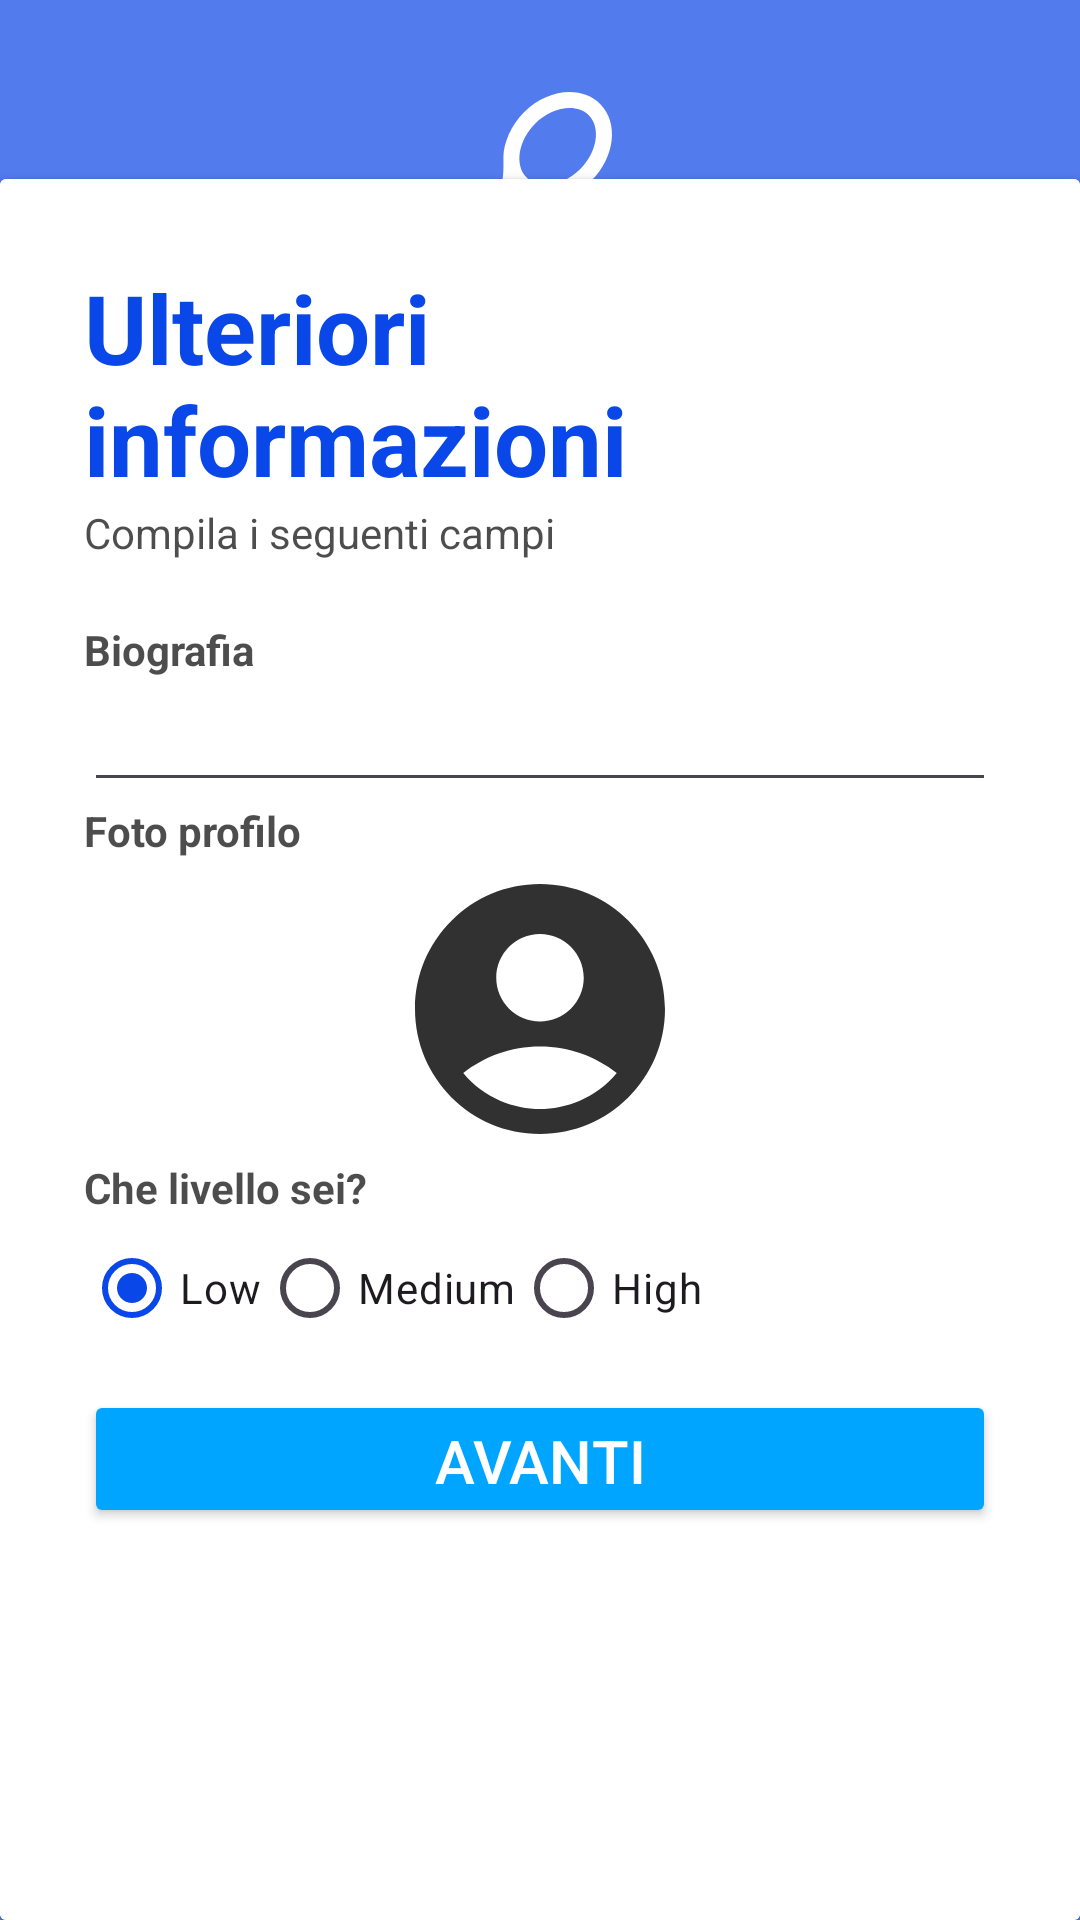

Named icons in this screenshot (1080x1920) and their bounding boxes, bbox(x1, y1, x2, y2):
account circle: bbox(415, 884, 665, 1134)
